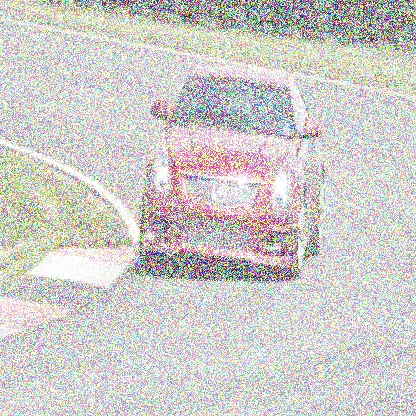Vehicle: (139, 62, 330, 286)
